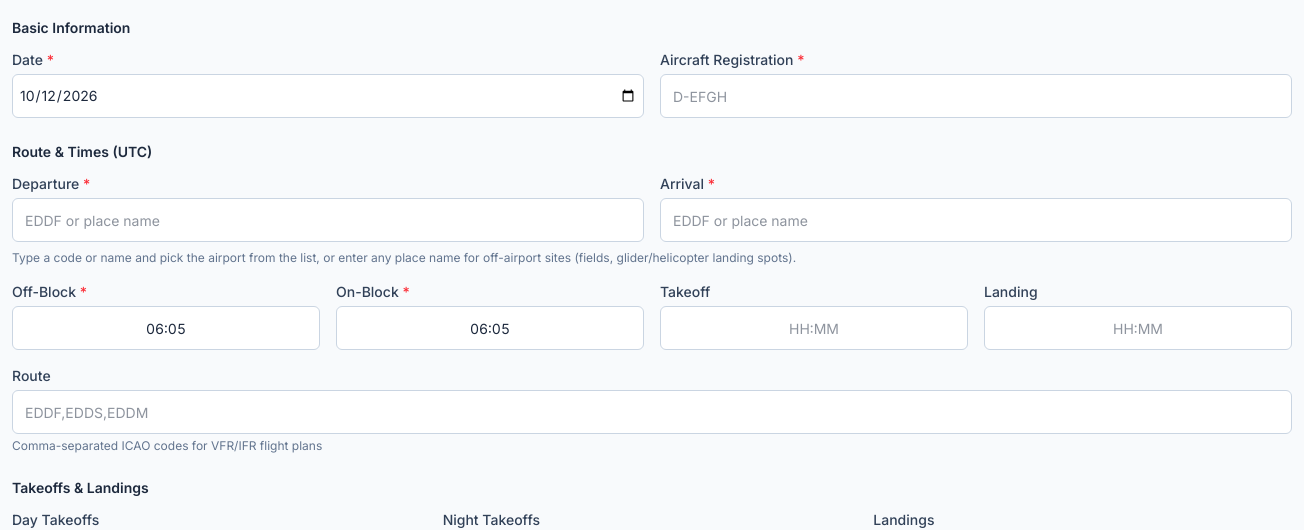
Scenario: FlightForm Instrument Tracking › fills IFR and PICUS time from the block times
Replace the text in the field labelled "Off-Block *" with "08:05". click: x=166, y=328
box: [12,306,320,350]
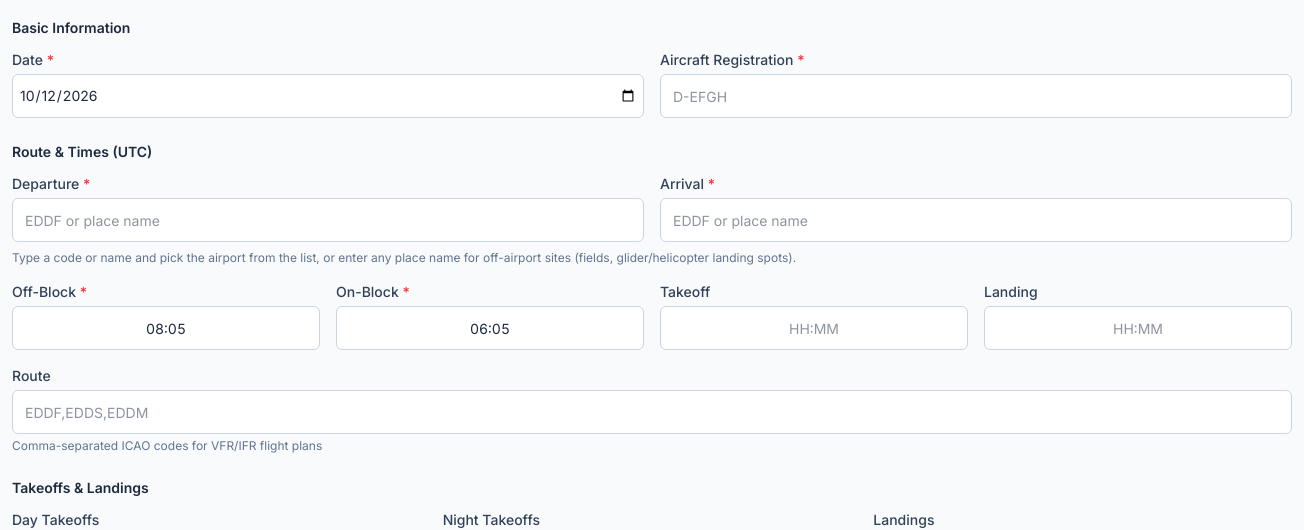
Replace the text in the field labelled "On-Block *" with "09:30". click: x=490, y=328
box: [336,306,644,350]
(page scrolled)
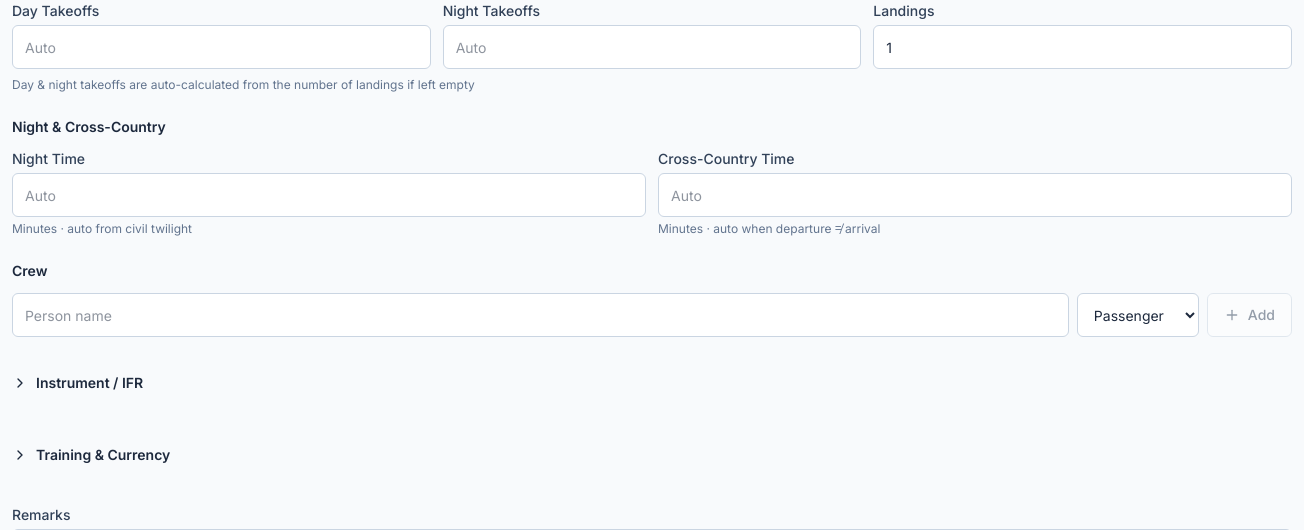
Click the button "Instrument / IFR". click: x=90, y=382
box: [12,361,1292,405]
(page scrolled)
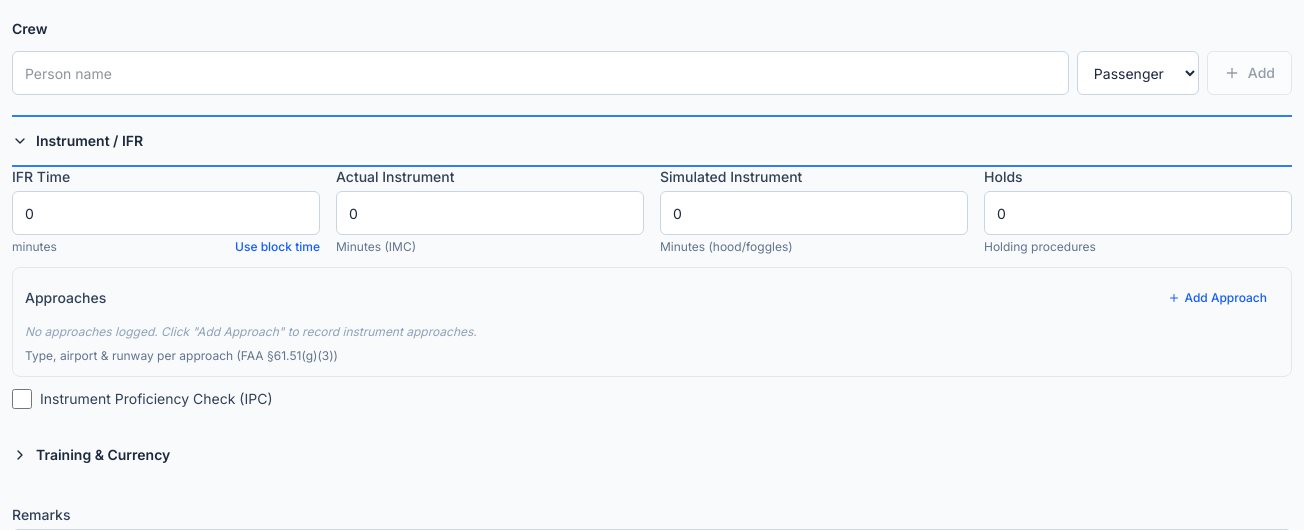
Click the button "Training & Currency". click: x=103, y=454
box: [12,433,1292,477]
(page scrolled)
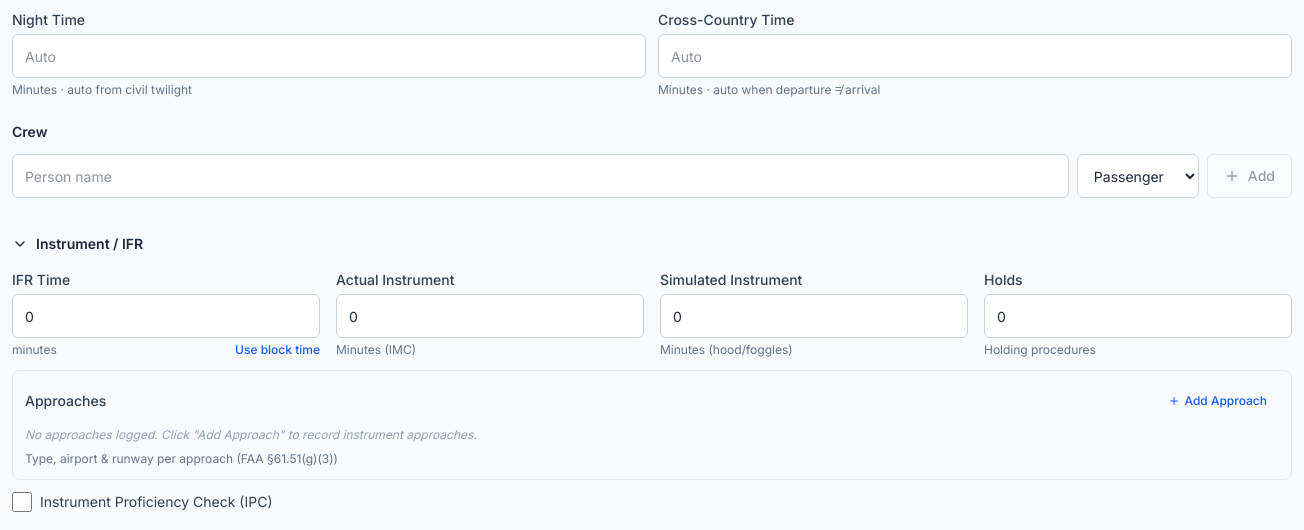
Result: the button "Use block time" below "IFR Time" is enabled
Click the button "Use block time" below "IFR Time". click: x=278, y=350
box: [235,328,320,372]
(page scrolled)
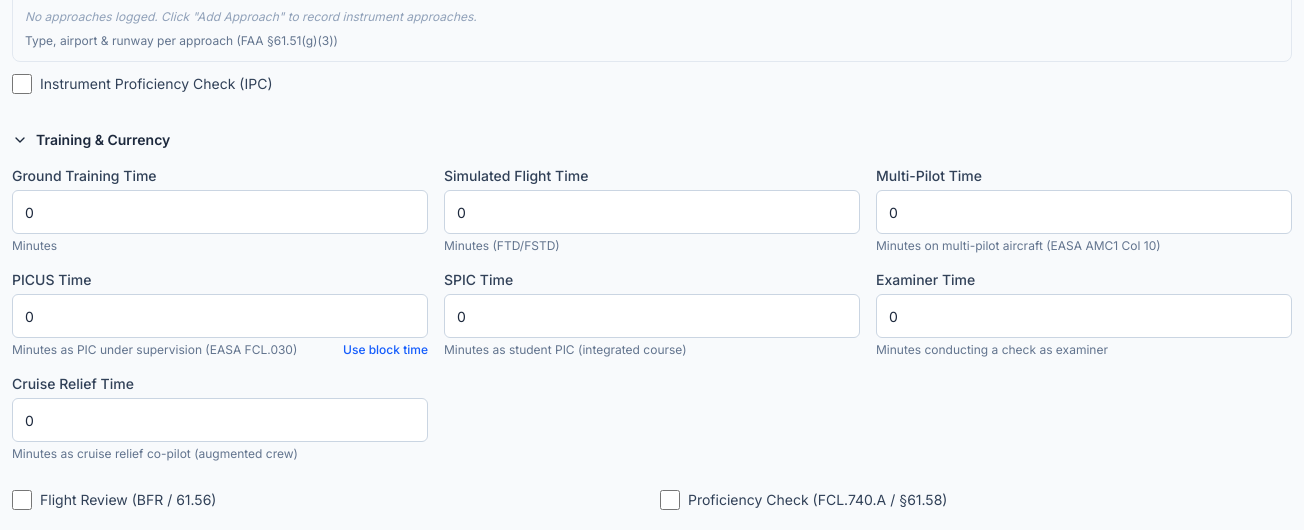
Click the button "Use block time" below "PICUS Time". click: x=386, y=350
box: [343,328,428,372]
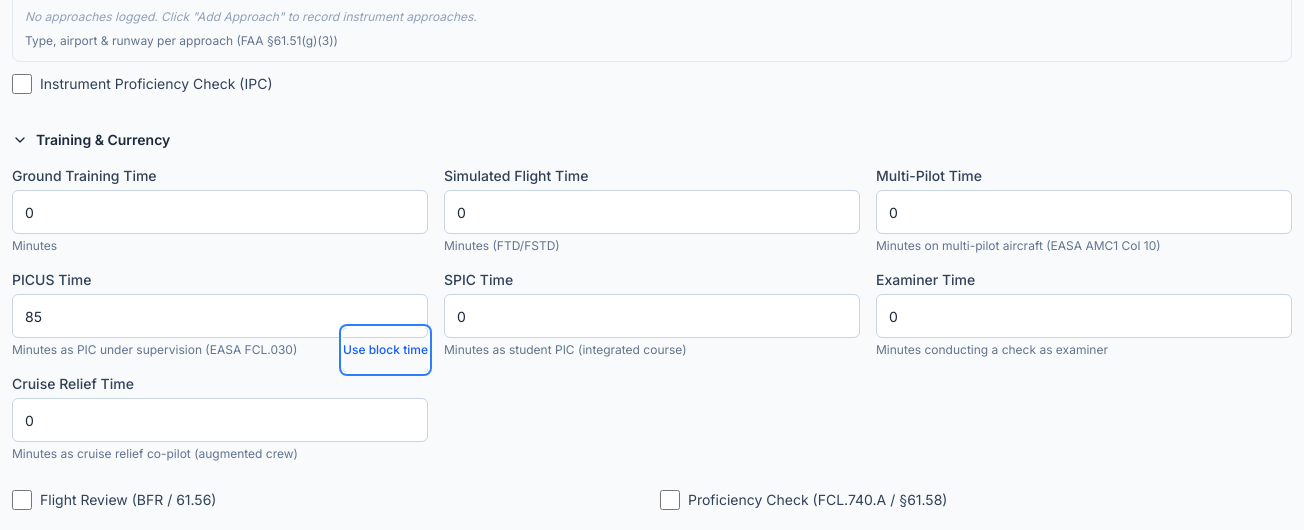
Result: the number field labelled "PICUS Time" holds "85" at [12,294,428,338]
